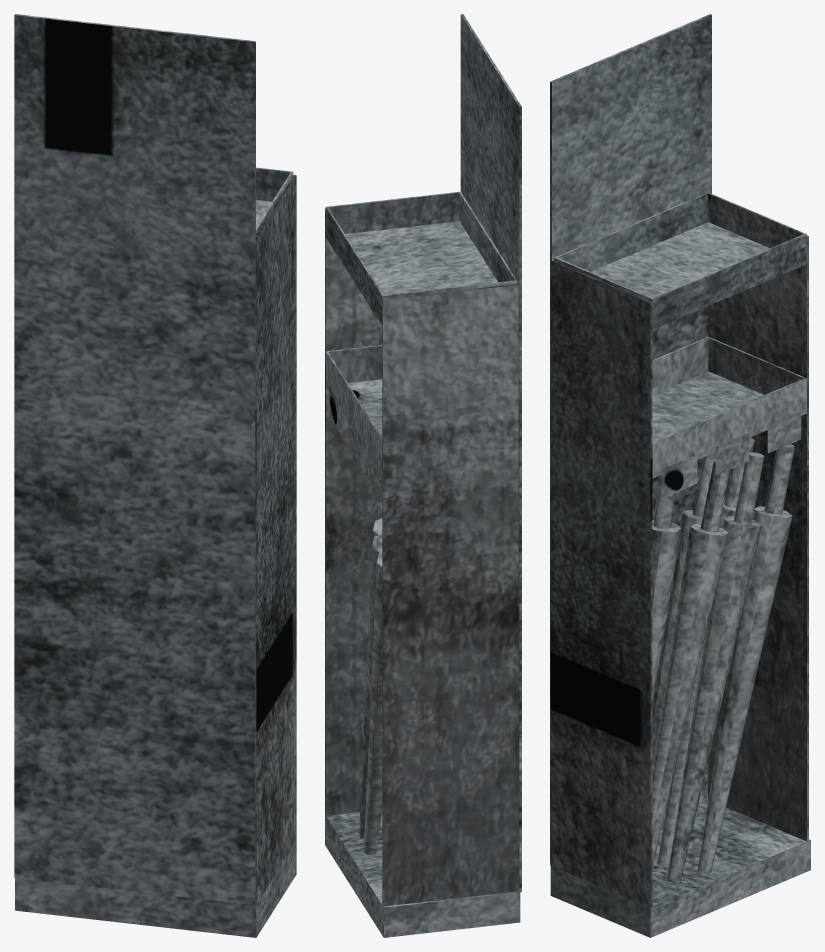
File: store_89.obj
3 views of the same model, side by side, from view 1: azimuth 30°, elevation 25°; view 2: azimuth 150°, elevation 25°; view 3: azimuth 270°, elevation 25° (orthographic). The views are drawn at different scales.
Size of the model in its own units: 33.9 by 116 by 33.83.
